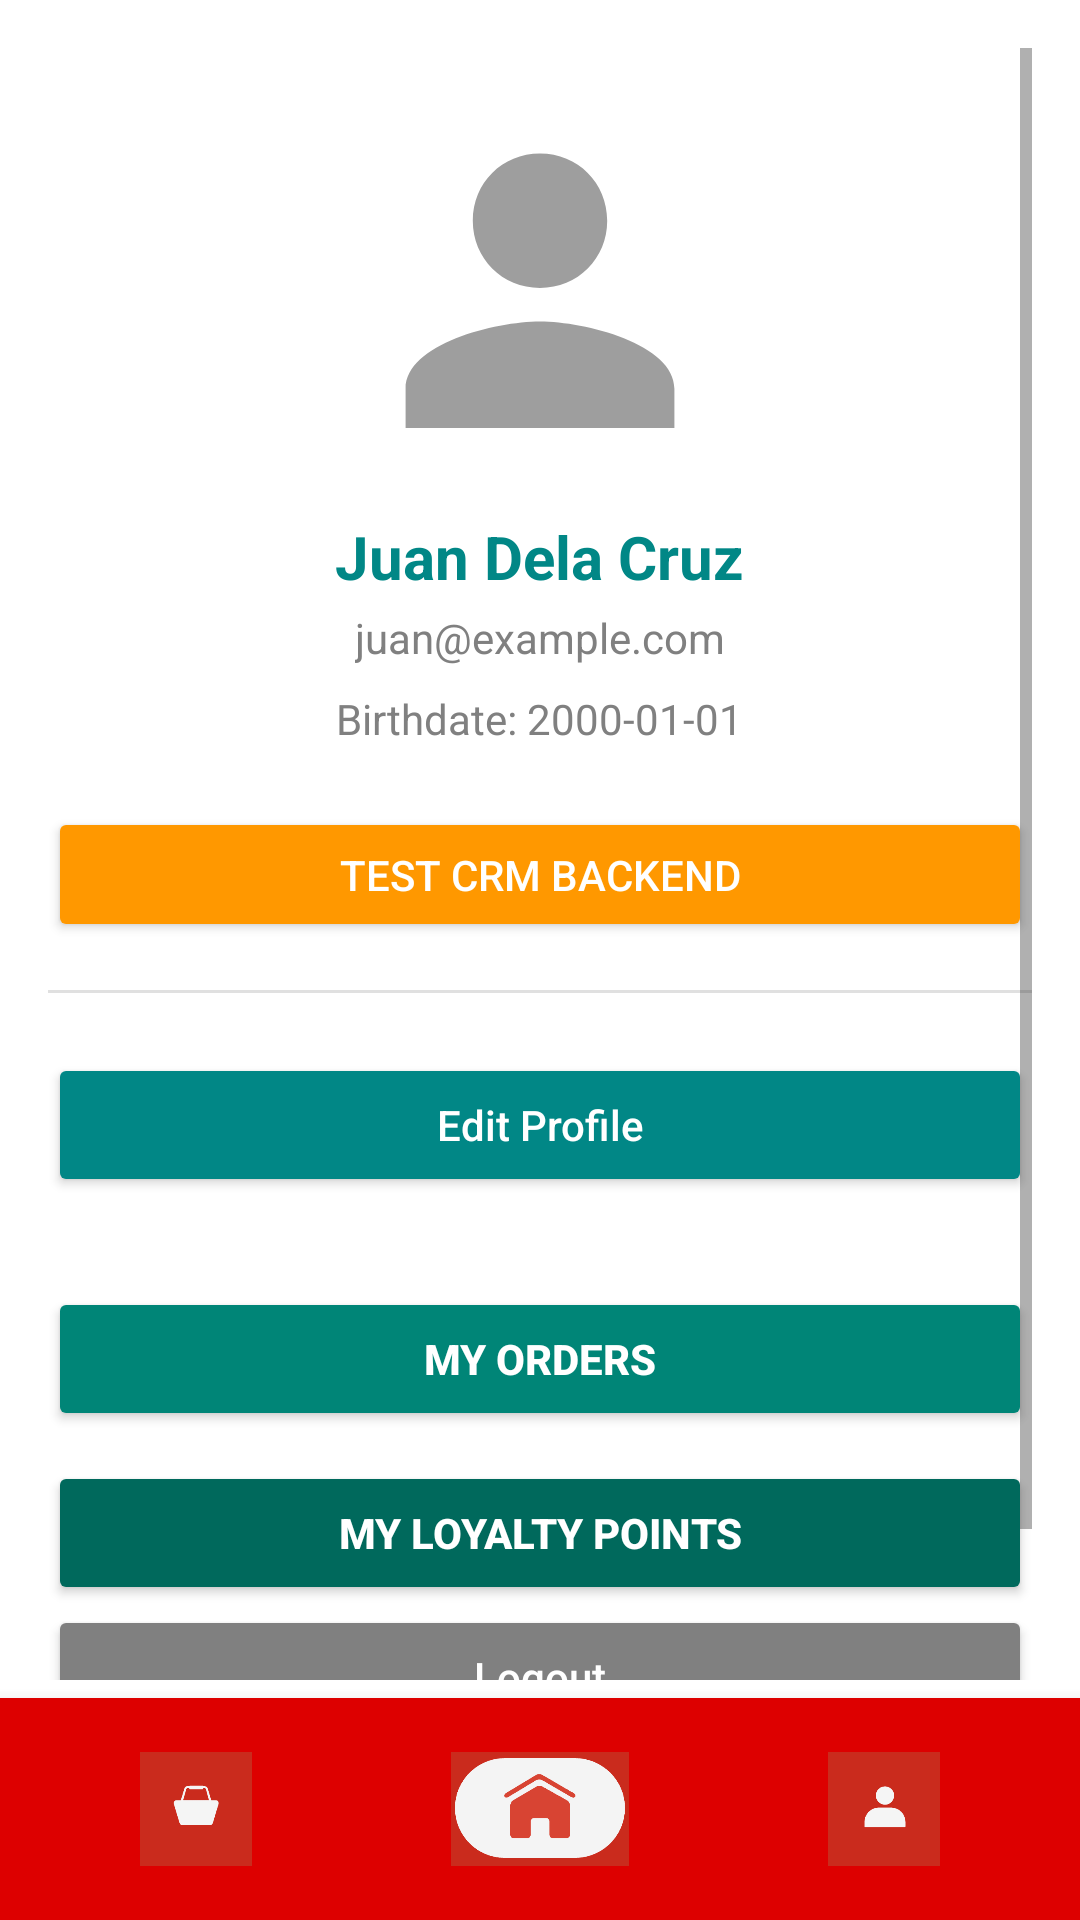

Icons on this 1080x1920 Android screen, each with the point to tap as (x,y):
Cart: (196,1809)
Home: (540,1809)
Profile: (884,1809)
User profile image: (540,290)
